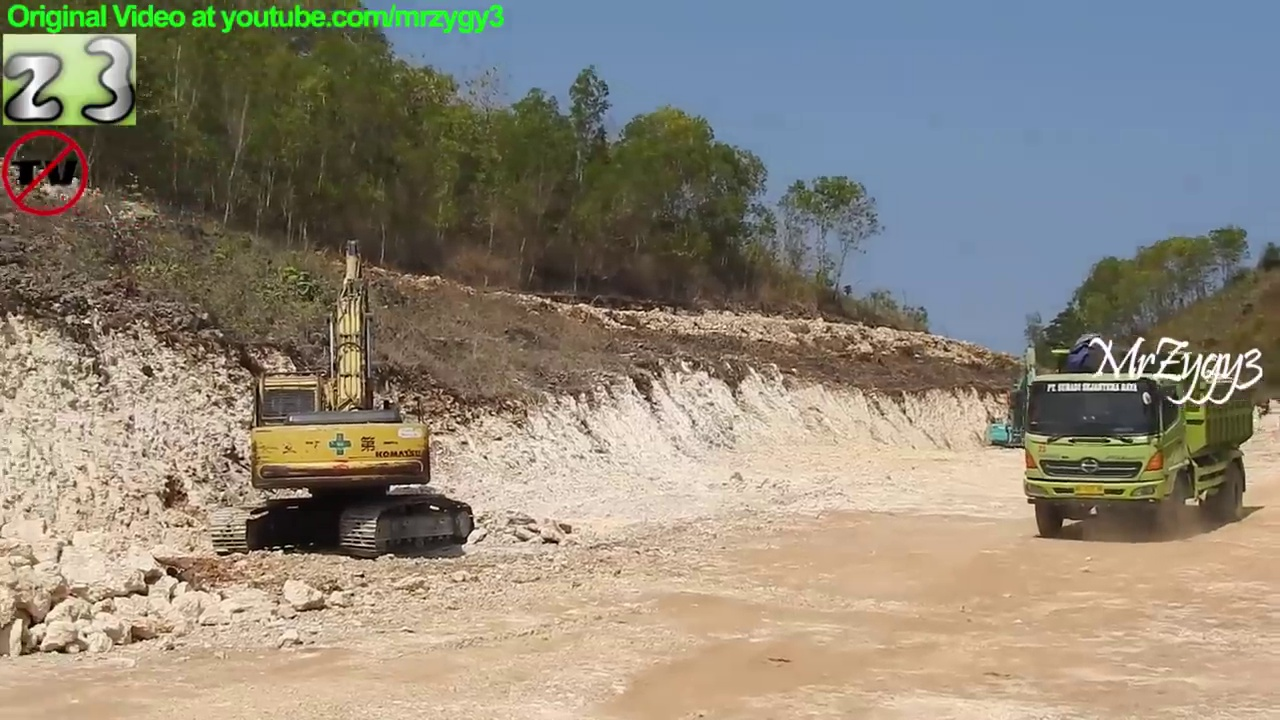excavator: (982, 337, 1068, 464)
excavator breaker: (202, 231, 479, 568)
truck: (1005, 344, 1258, 543)
